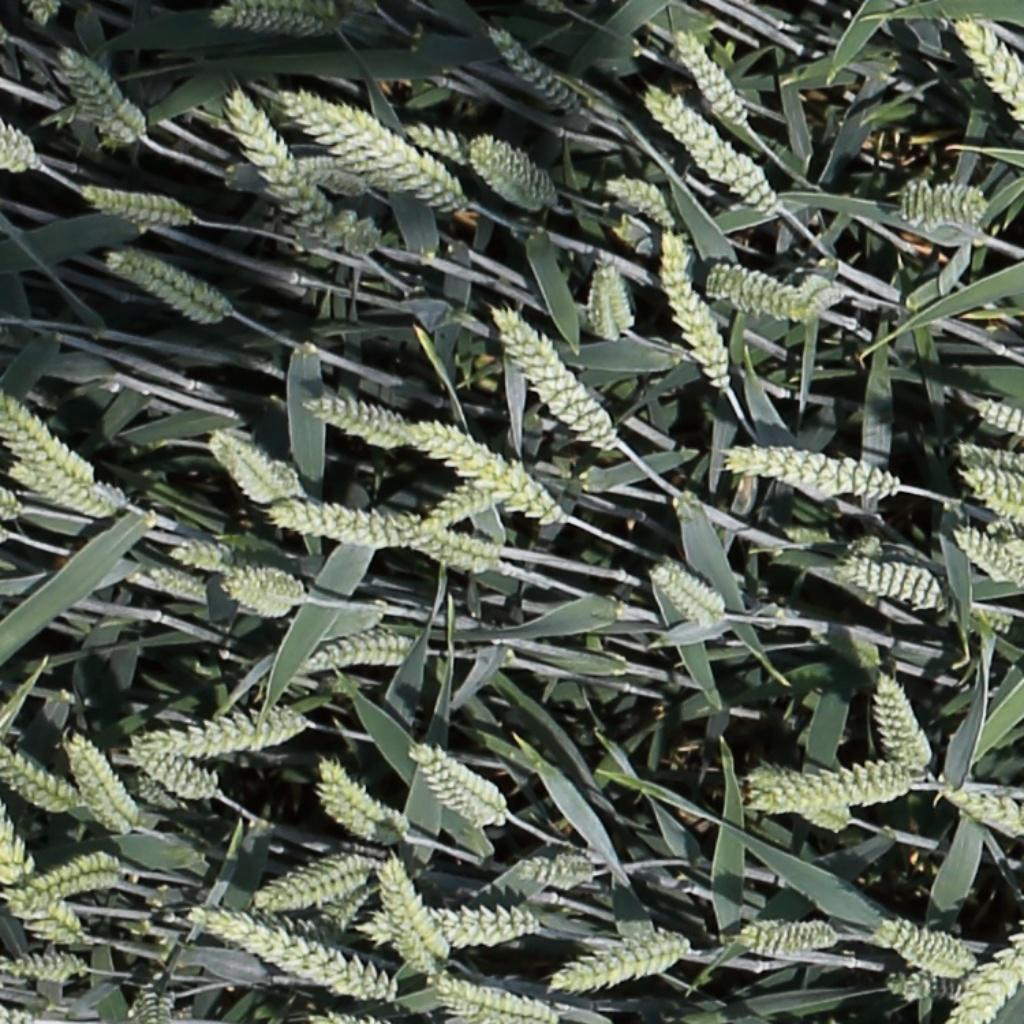0-0: (204, 430, 423, 548), (280, 91, 459, 203), (185, 906, 385, 996), (491, 305, 613, 450), (643, 84, 780, 210), (223, 84, 333, 225), (416, 422, 565, 516), (653, 226, 731, 394), (715, 435, 906, 503), (54, 45, 153, 152), (547, 919, 697, 988), (310, 755, 417, 849), (152, 694, 322, 753), (421, 454, 531, 542), (957, 21, 1024, 162), (0, 389, 94, 488), (686, 250, 815, 321), (410, 742, 513, 829), (389, 509, 510, 583), (4, 461, 131, 531), (669, 23, 749, 133), (743, 769, 907, 822), (253, 848, 385, 913), (106, 247, 223, 320), (486, 24, 580, 114), (752, 765, 860, 838), (65, 734, 135, 835), (376, 856, 432, 981), (875, 670, 936, 783), (125, 734, 229, 798), (923, 583, 1024, 647), (220, 552, 313, 618), (894, 174, 990, 232), (473, 136, 554, 203), (650, 557, 724, 630), (936, 767, 1017, 833), (582, 253, 640, 345), (301, 398, 412, 446), (79, 185, 194, 231), (839, 556, 948, 604), (299, 627, 414, 671), (424, 905, 537, 948), (804, 620, 892, 675), (793, 257, 859, 330), (0, 748, 75, 812), (308, 204, 388, 263), (735, 914, 847, 955), (308, 863, 387, 921), (438, 981, 552, 1021), (882, 916, 969, 967), (954, 528, 1024, 587), (603, 174, 677, 226), (892, 960, 981, 1003), (150, 558, 221, 607), (510, 850, 599, 889), (4, 891, 81, 936), (968, 472, 1024, 533), (210, 6, 331, 31), (19, 871, 120, 899), (256, 451, 310, 503), (402, 122, 472, 161), (1, 950, 90, 980), (954, 443, 1024, 479), (129, 978, 181, 1024), (294, 159, 364, 192), (976, 400, 1024, 442), (45, 849, 136, 867), (1003, 539, 1024, 591), (1, 1008, 35, 1024)
